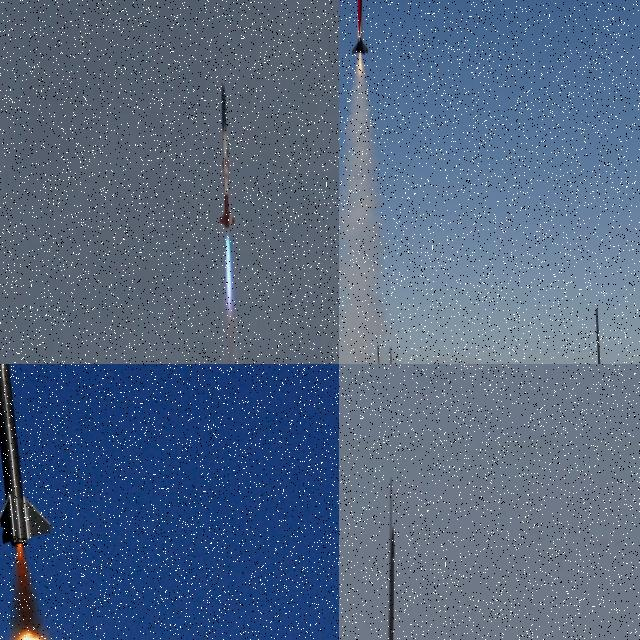Rocket: (0, 364, 54, 550), (216, 80, 236, 233), (387, 525, 397, 640), (350, 0, 369, 56)
